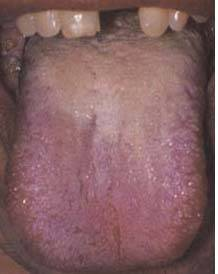baitaishe: (7, 40, 210, 274)
hongshe: (7, 40, 210, 274)
